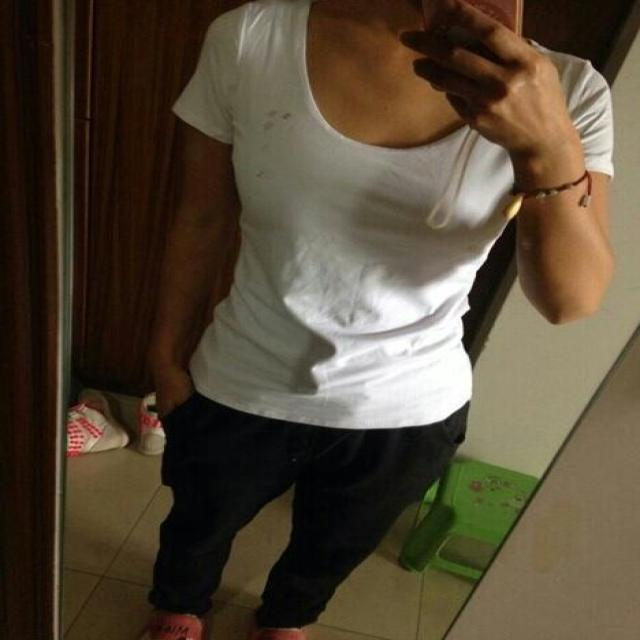short sleeve top: (171, 4, 614, 425)
trousers: (149, 354, 464, 627)
